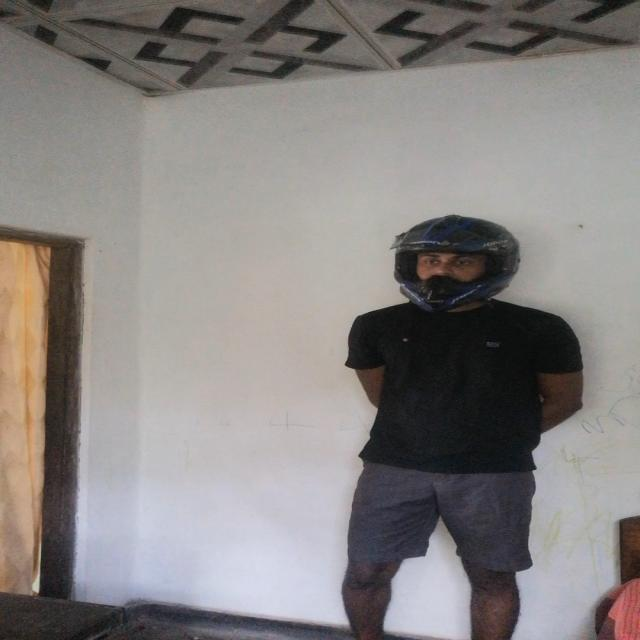Helmet_Wearer: (376, 214, 538, 320)
Person: (317, 216, 587, 640)
